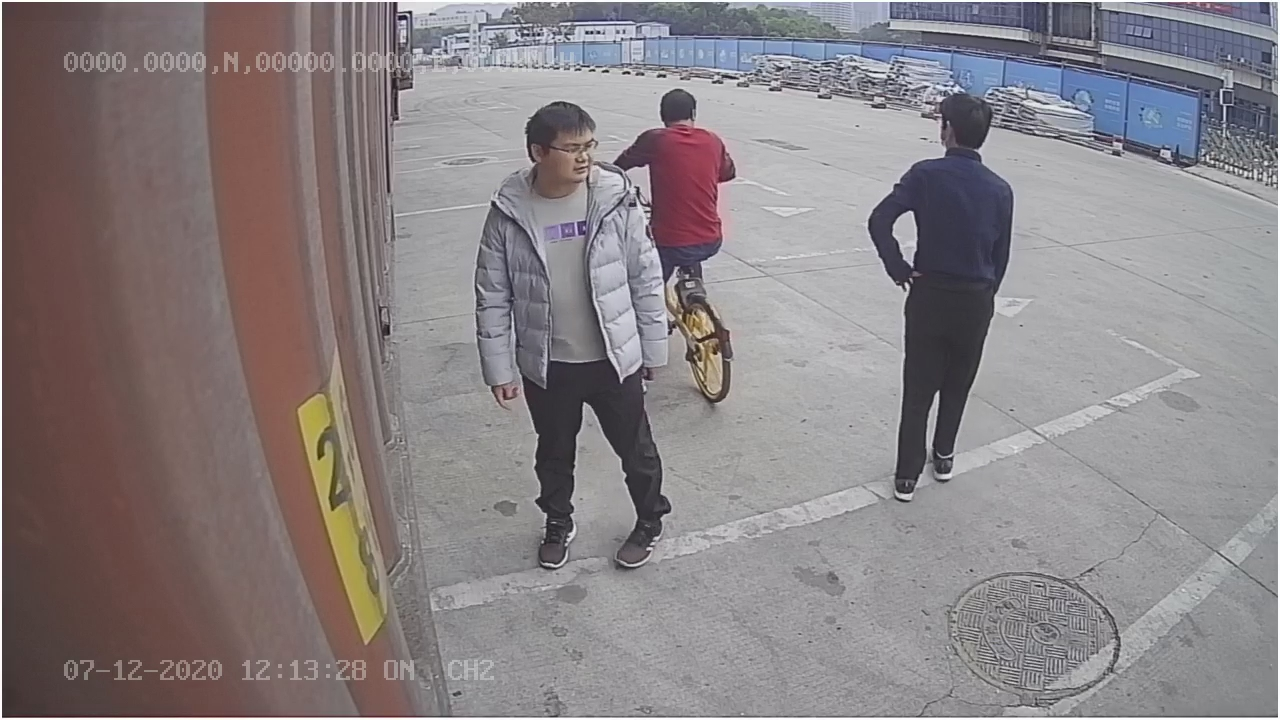person: (867, 93, 1016, 500)
